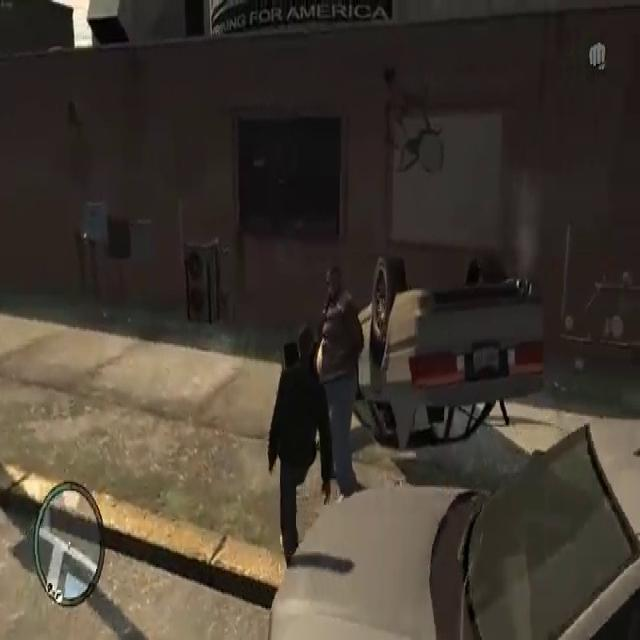severe: (310, 238, 551, 463)
